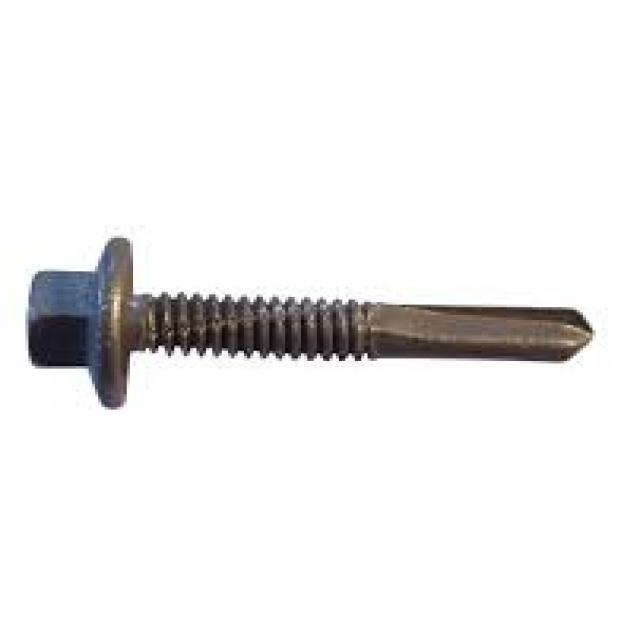Screw: (29, 241, 596, 410)
